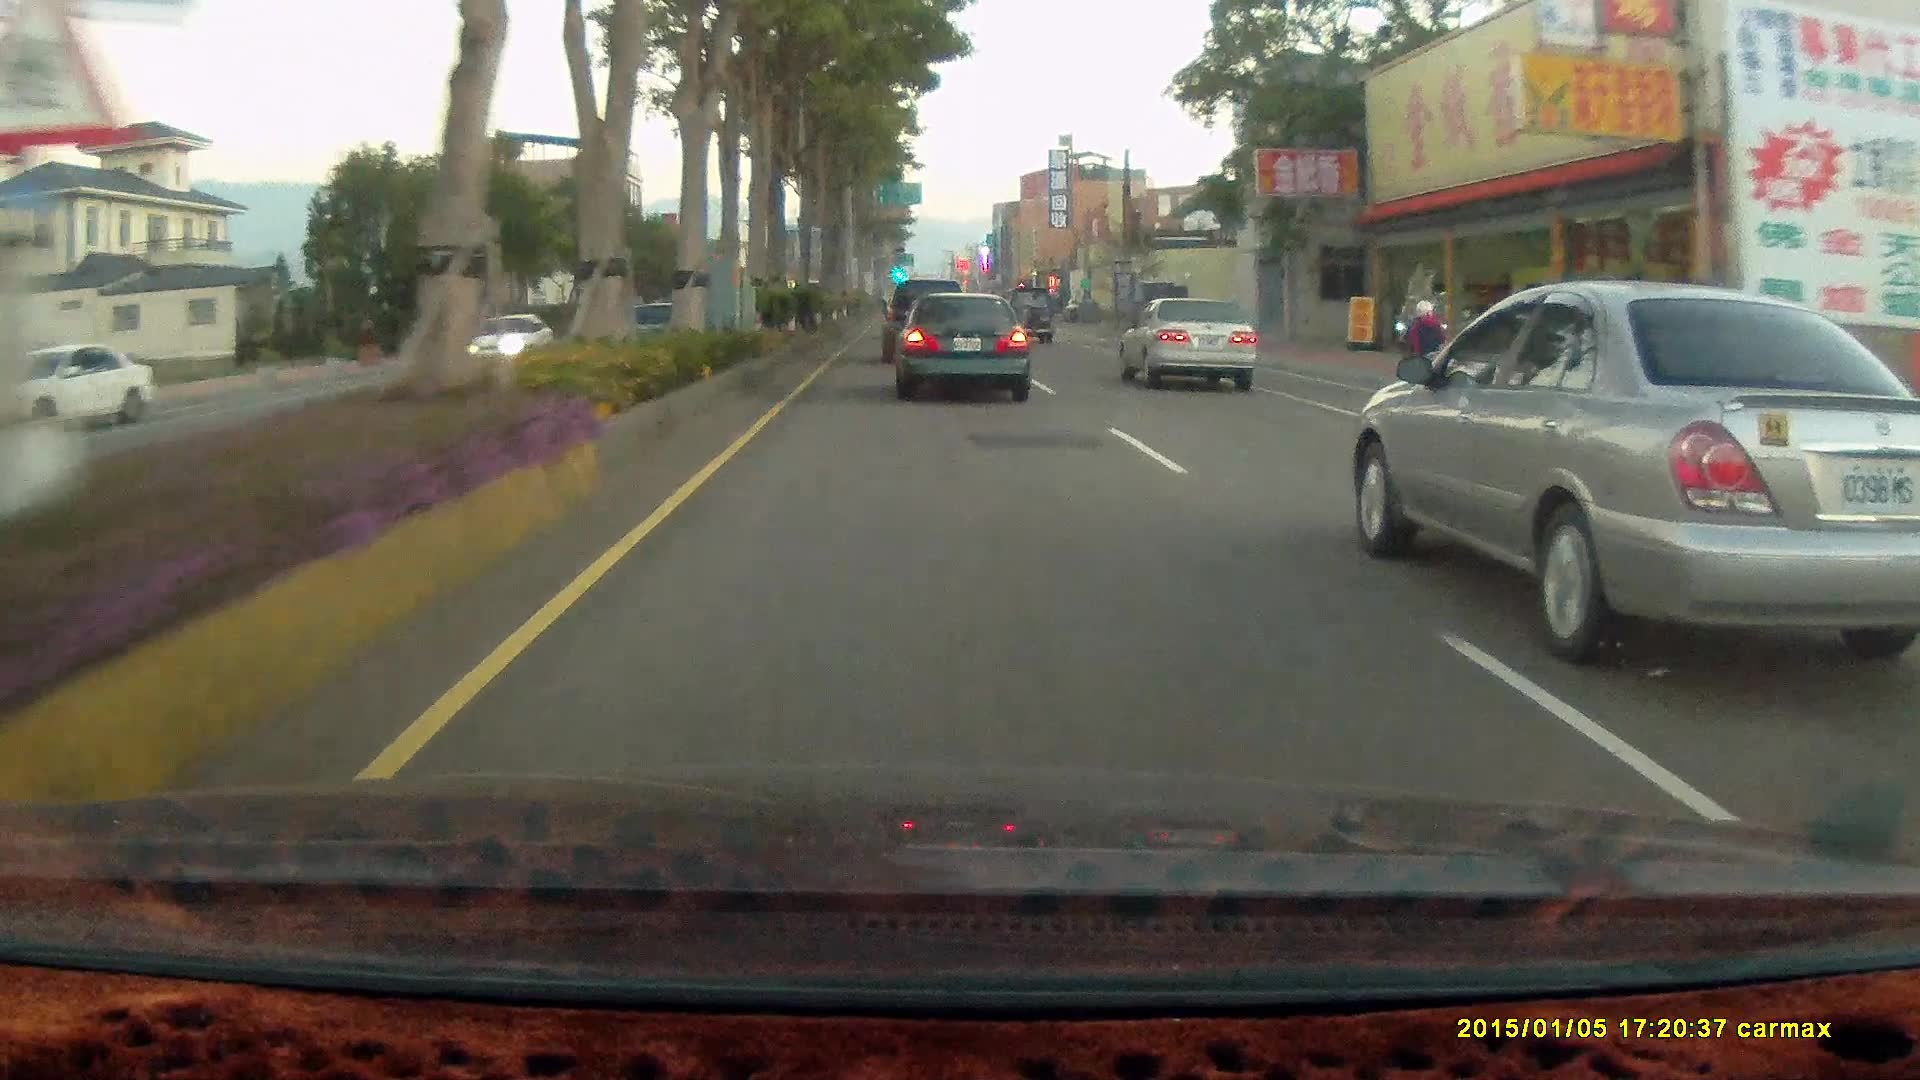rider: (1383, 288, 1463, 424), (1397, 297, 1456, 406)
vehicle: (1343, 289, 1920, 644), (892, 292, 1035, 408), (890, 295, 1031, 407), (1, 344, 160, 441), (1, 344, 156, 436), (1121, 305, 1265, 402), (1115, 296, 1257, 393), (883, 282, 973, 367), (882, 280, 965, 366), (459, 311, 554, 370), (456, 313, 556, 365), (1131, 282, 1189, 338), (1003, 282, 1054, 344)
